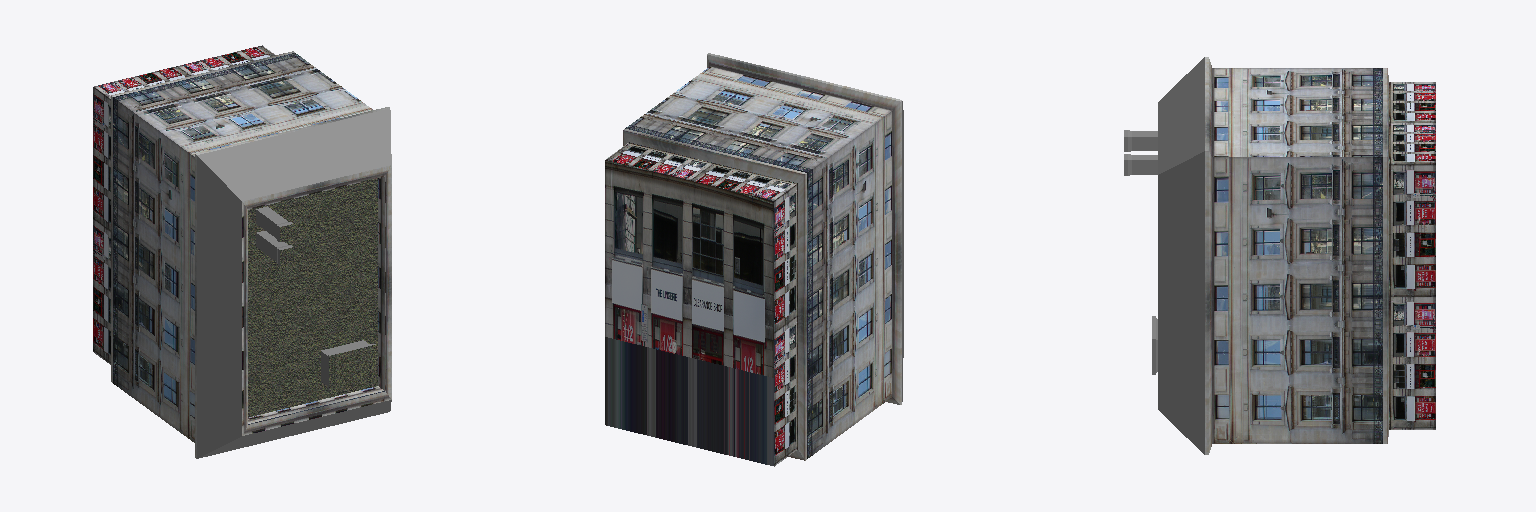
3 views of the same model, side by side, from view 1: azimuth 30°, elevation 25°; view 2: azimuth 150°, elevation 25°; view 3: azimuth 270°, elevation 25° (orthographic).
Visible parts, largest first — view 1: Shops_D_01; view 2: Shops_D_01; view 3: Shops_D_01.
Boxes of the visible parts, x1,y1,x2,y2 form: Shops_D_01: [93, 45, 391, 458]; Shops_D_01: [605, 53, 903, 466]; Shops_D_01: [1124, 57, 1435, 454].
Size of the model in its own units: 33.96 by 50.94 by 47.53.
Materials: 5 (4 with a texture image).